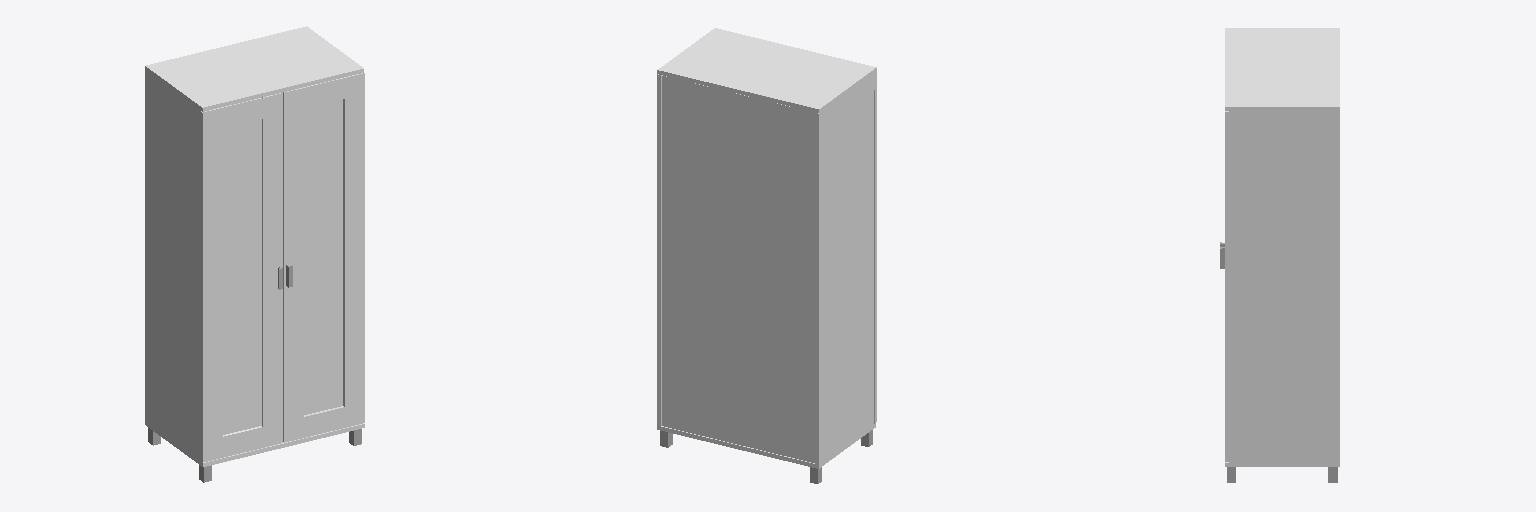
3 renders of one model, left to right at view 1: azimuth 30°, elevation 25°; view 2: azimuth 150°, elevation 25°; view 3: azimuth 270°, elevation 25°, orthographic.
Parts seen in each view (by area): view 1: Mesh7 Model, Mesh9 Model, Mesh8 Model; view 2: Mesh7 Model, Mesh9 Model; view 3: Mesh7 Model, Mesh8 Model.
Boxes of the visible parts, <box> form: Mesh7 Model: <box>145,26,364,466</box>; Mesh9 Model: <box>200,93,282,462</box>; Mesh8 Model: <box>283,73,364,442</box>; Mesh7 Model: <box>657,28,876,468</box>; Mesh9 Model: <box>874,72,876,423</box>; Mesh7 Model: <box>1225,28,1339,466</box>; Mesh8 Model: <box>1225,111,1228,461</box>.
Bounding box in the file's own units: 812 × 1800 × 520.